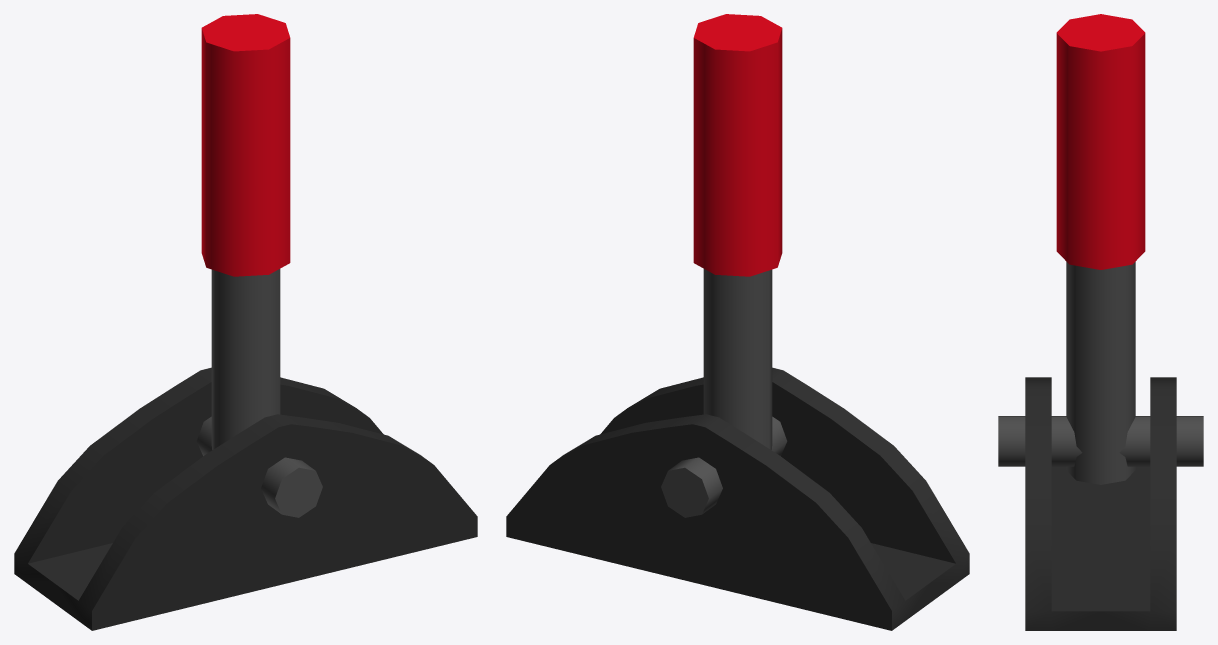
Rendered from lever_1.fbx.
3 views of the same model, side by side, from view 1: azimuth 30°, elevation 25°; view 2: azimuth 150°, elevation 25°; view 3: azimuth 270°, elevation 25° (orthographic). The views are drawn at different scales.
Visible parts, largest first — view 1: Lever.Base, Lever.Handle; view 2: Lever.Base, Lever.Handle; view 3: Lever.Handle, Lever.Base.
Part boxes in pixels (x1,y1,x2,y2): Lever.Base: (14, 367, 477, 630); Lever.Handle: (196, 14, 322, 517); Lever.Base: (506, 367, 969, 630); Lever.Handle: (661, 14, 787, 517); Lever.Handle: (998, 14, 1203, 484); Lever.Base: (1025, 377, 1176, 630).
Size of the model in its own units: 0.5094 by 0.6597 by 0.2425.
